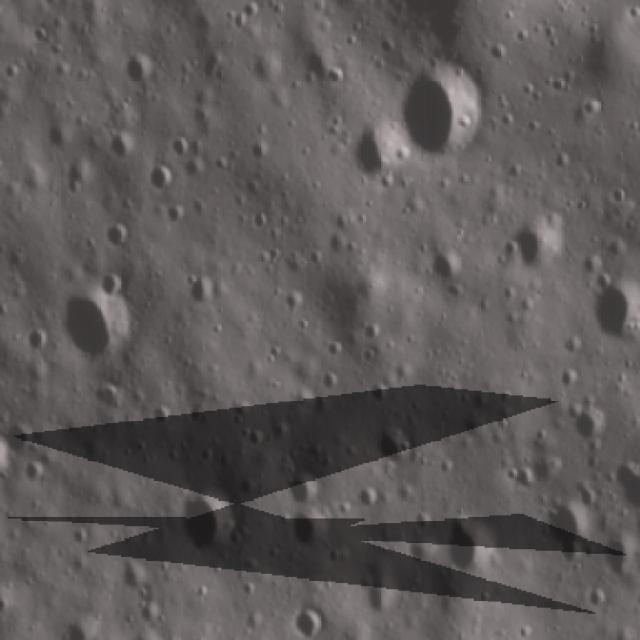crater: (399, 60, 490, 169), (64, 269, 130, 374), (176, 496, 241, 559), (539, 502, 592, 575), (446, 507, 496, 579), (510, 218, 568, 276), (594, 281, 640, 350), (348, 125, 408, 173), (428, 244, 470, 299), (380, 418, 417, 474), (603, 532, 640, 585), (569, 407, 609, 450), (279, 470, 324, 505), (122, 51, 160, 92), (299, 41, 332, 87), (284, 511, 328, 544), (48, 615, 106, 640), (287, 604, 327, 640), (617, 462, 640, 516), (185, 271, 220, 306), (6, 416, 36, 456), (113, 555, 149, 588), (144, 162, 170, 200), (22, 461, 55, 490), (360, 485, 383, 523)
